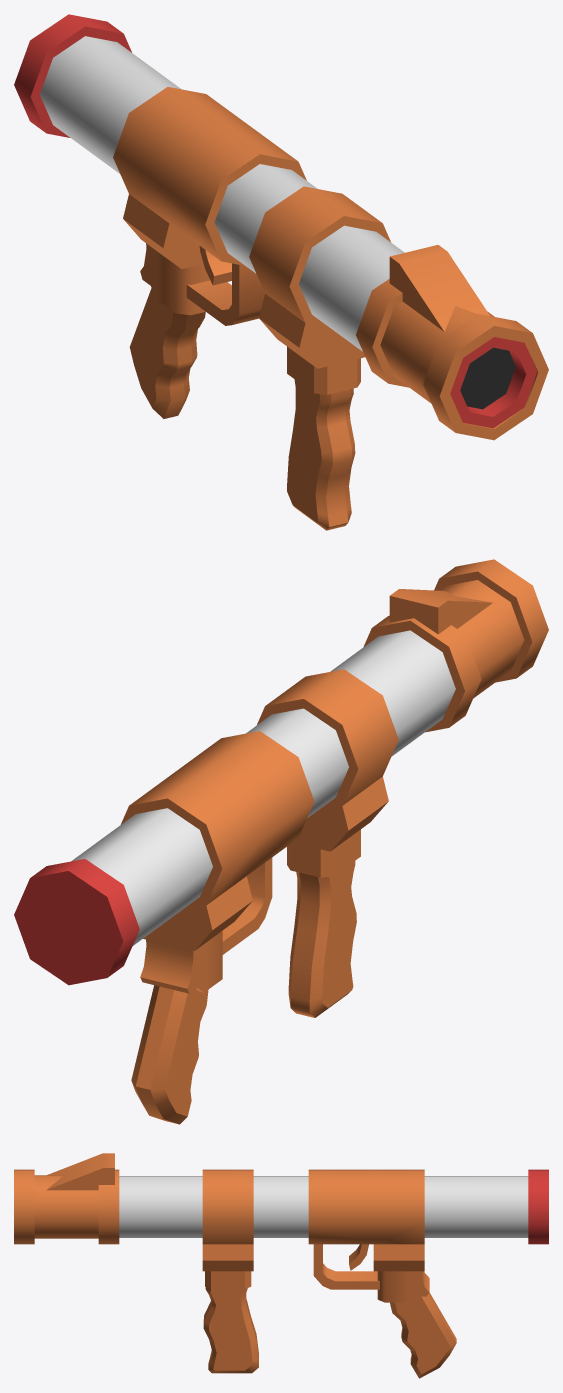
Rendered from GrenadeLauncher_01.fbx.
3 renders of one model, top to bottom at view 1: azimuth 30°, elevation 25°; view 2: azimuth 150°, elevation 25°; view 3: azimuth 270°, elevation 25°, orthographic. The views are drawn at different scales.
Parts seen in each view (by area): view 1: GrenadeLauncher_01, GrenadeLauncher_01_Trigger; view 2: GrenadeLauncher_01; view 3: GrenadeLauncher_01, GrenadeLauncher_01_Trigger.
Boxes of the visible parts, x1=… form: GrenadeLauncher_01: x1=14, y1=14, x2=548, y2=530; GrenadeLauncher_01_Trigger: x1=199, y1=246, x2=231, y2=285; GrenadeLauncher_01: x1=14, y1=559, x2=548, y2=1124; GrenadeLauncher_01: x1=14, y1=1153, x2=548, y2=1378; GrenadeLauncher_01_Trigger: x1=349, y1=1244, x2=368, y2=1270.
Bounding box in the file's own units: 0.1248 × 0.3748 × 0.841.
